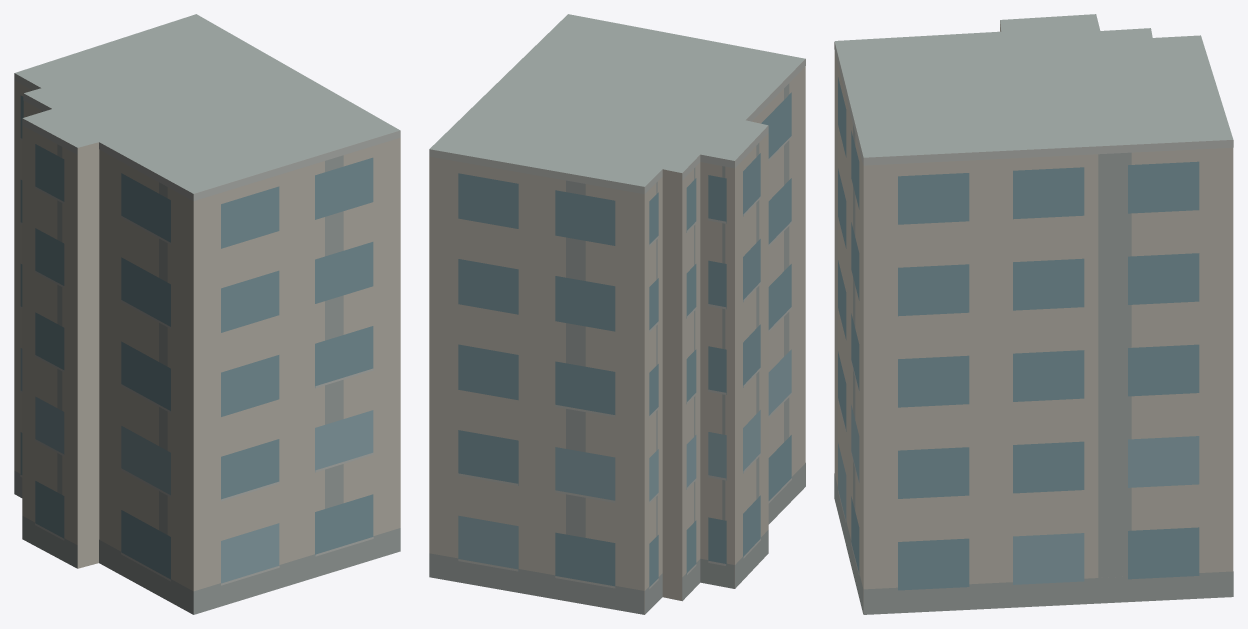
The model's file is survey-upis-32706786.glb.
3 renders of one model, left to right at view 1: azimuth 30°, elevation 25°; view 2: azimuth 150°, elevation 25°; view 3: azimuth 270°, elevation 25°, orthographic. The views are drawn at different scales.
Parts seen in each view (by area): view 1: survey-upis-32706786.tmp; view 2: survey-upis-32706786.tmp; view 3: survey-upis-32706786.tmp.
Part boxes in pixels (box(x1,y1,x2,y2)): survey-upis-32706786.tmp: box(14, 14, 400, 614); survey-upis-32706786.tmp: box(429, 14, 805, 614); survey-upis-32706786.tmp: box(834, 14, 1233, 614).
Bounding box in the file's own units: 9.51 × 14.1 × 11.16.
